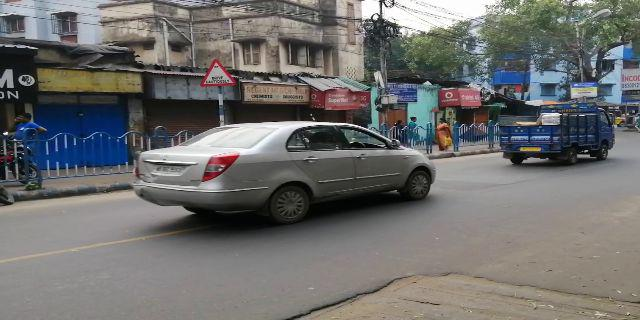Car: (130, 125, 441, 225)
Minitruck: (493, 106, 614, 159)
